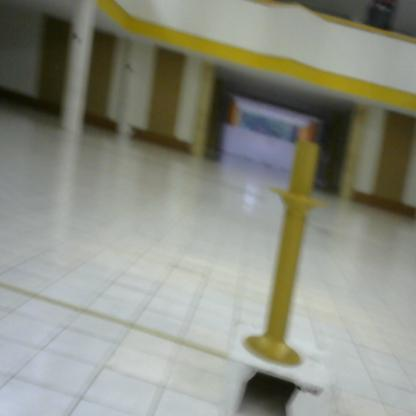pole: (232, 134, 332, 375)
